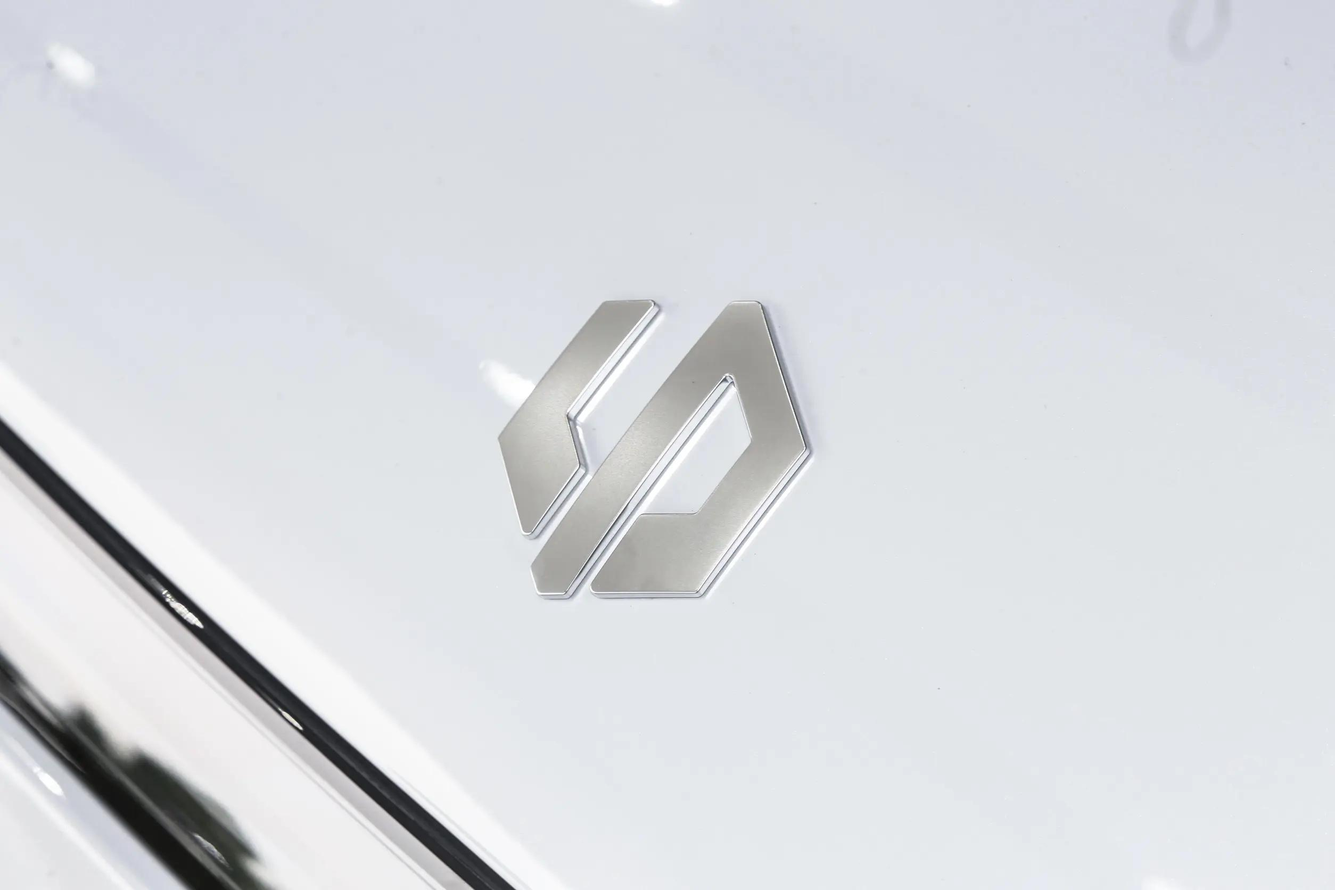LEAPMOTOR: (490, 300, 813, 598)
